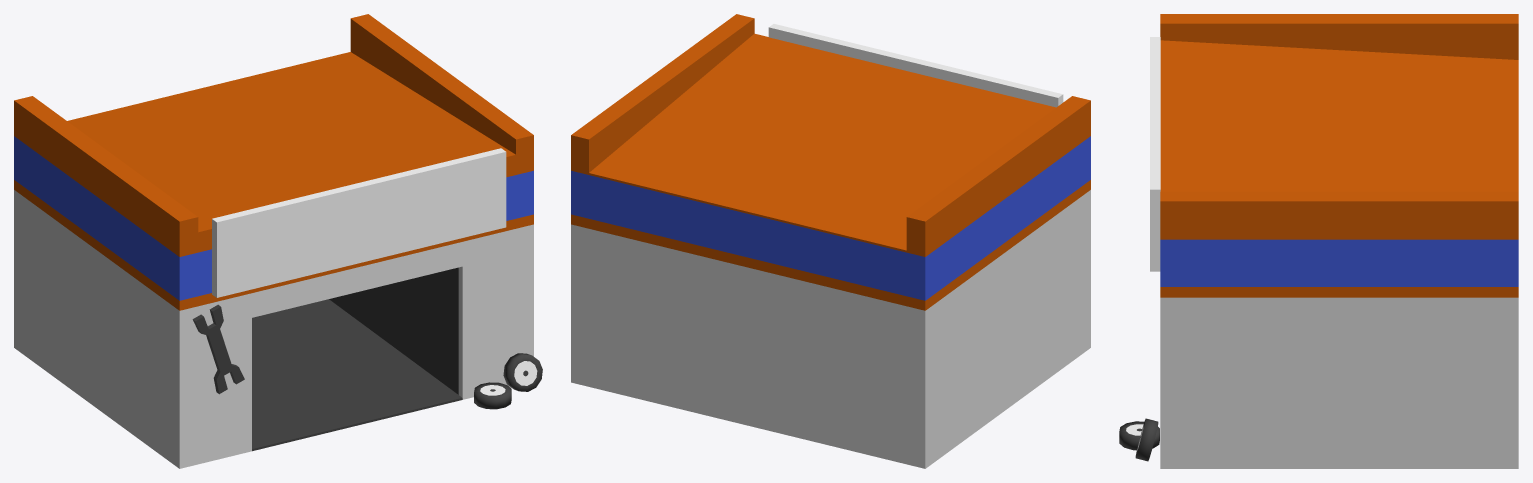
File: AutoRepairOld.fbx
3 views of the same model, side by side, from view 1: azimuth 30°, elevation 25°; view 2: azimuth 150°, elevation 25°; view 3: azimuth 270°, elevation 25° (orthographic). The views are drawn at different scales.
Visible parts, largest first — view 1: AutoRepairShop; view 2: AutoRepairShop; view 3: AutoRepairShop.
Boxes of the visible parts, x1=… form: AutoRepairShop: x1=14, y1=14, x2=542, y2=468; AutoRepairShop: x1=571, y1=14, x2=1090, y2=468; AutoRepairShop: x1=1119, y1=14, x2=1518, y2=468.
Bounding box in the file's own units: 2790 × 1861 × 2514.
